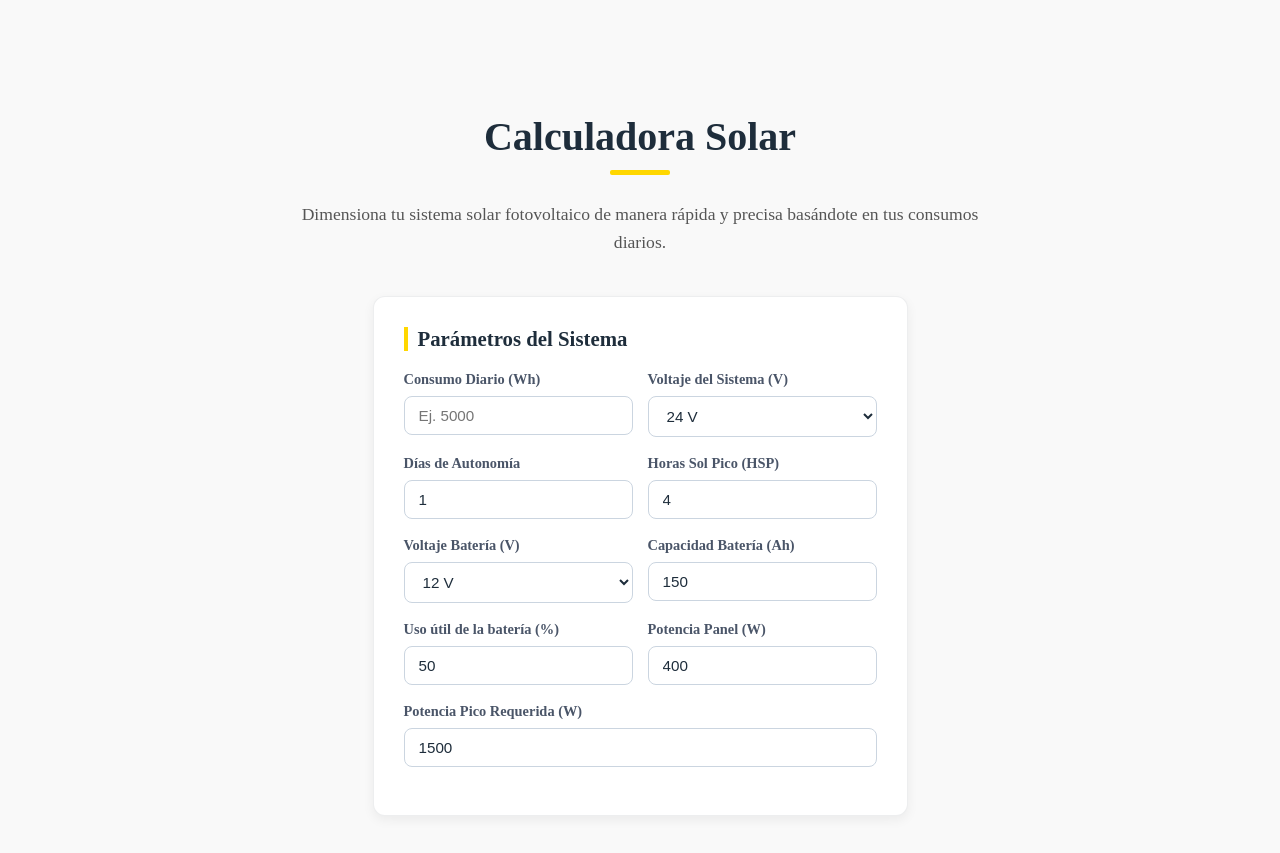
Test case: CalculadoraSolar › usa un mensaje por defecto si el API no envía uno
Type "100" into the number field with placeholder "Ej. 5000" at (518, 416), box [404,396,632,436]
(page scrolled)
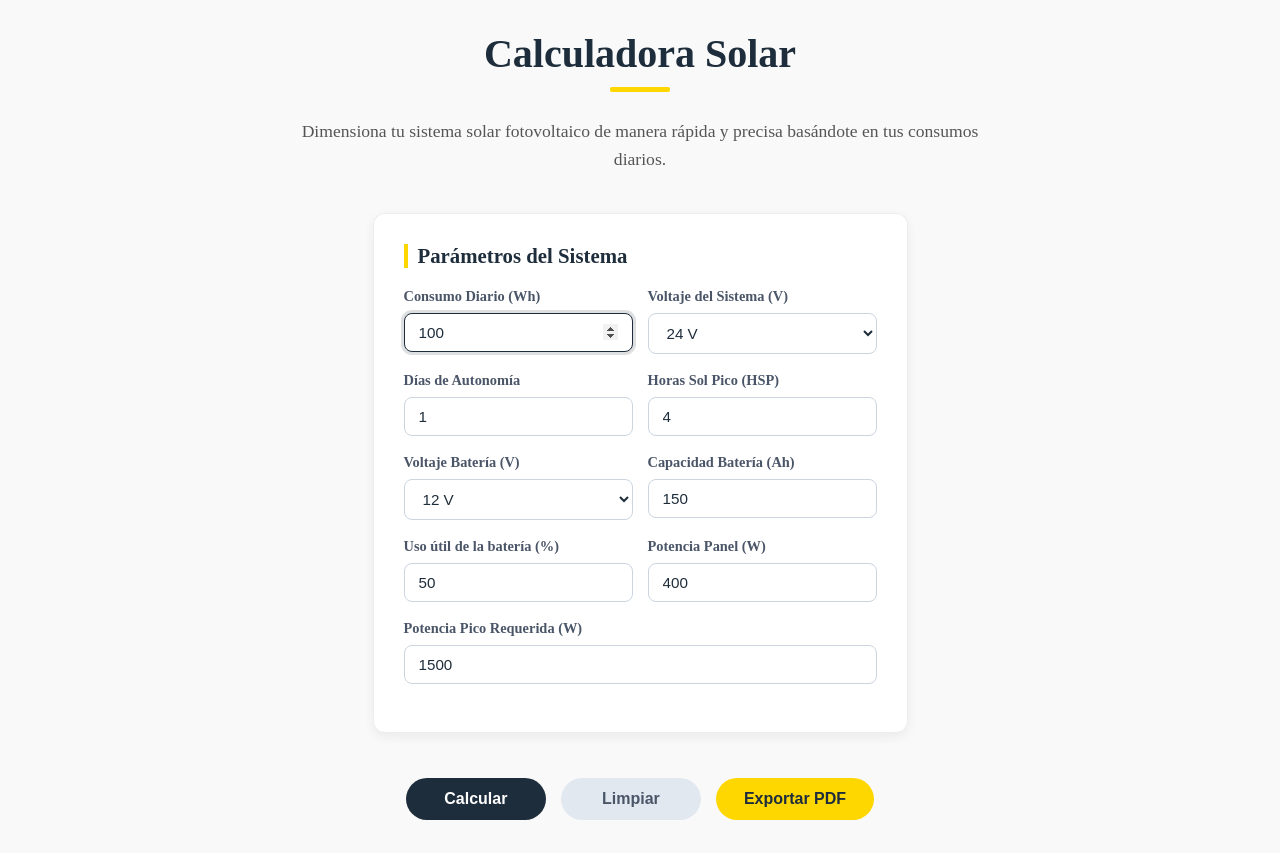
Click the button "Calcular" at (476, 800), box [406,778,546,820]
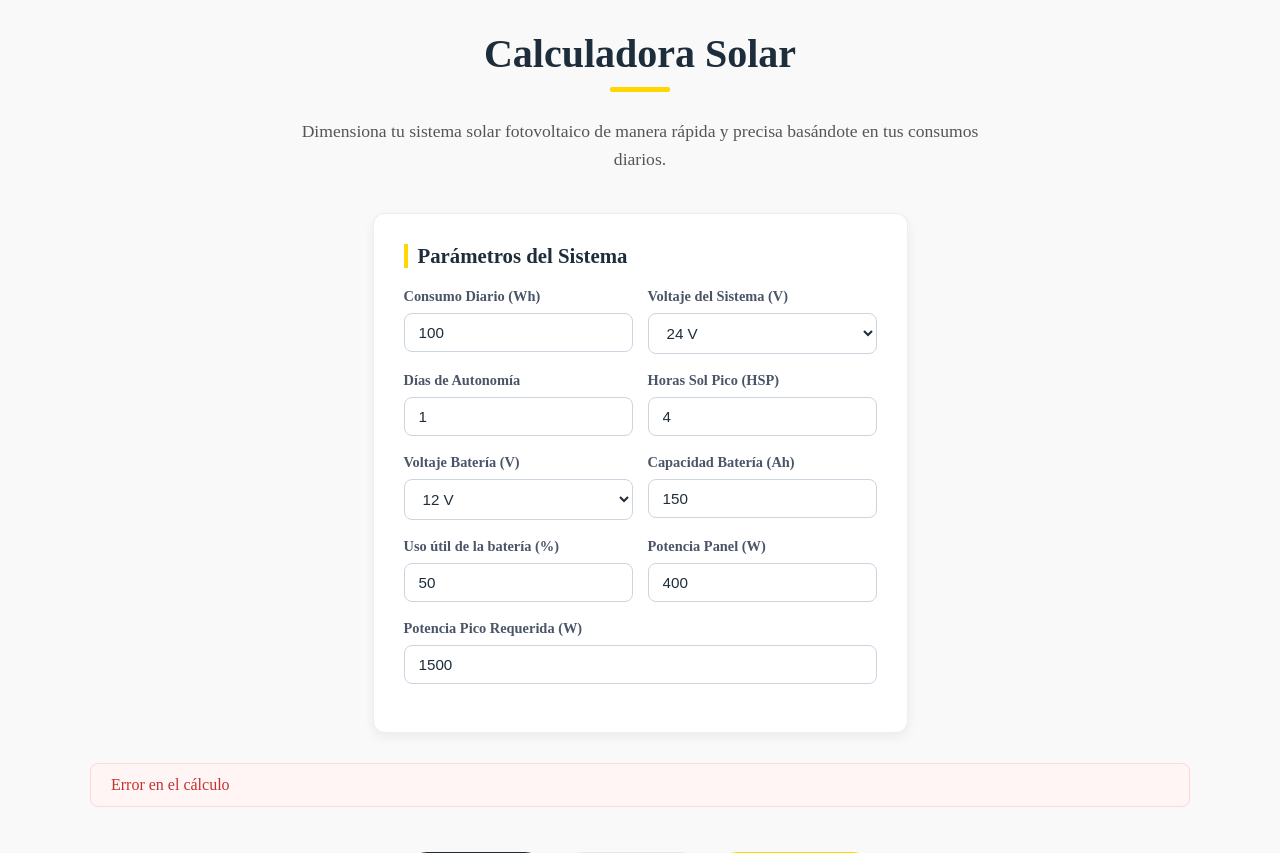
Expected: the text "Error en el cálculo" is shown, [90,764,1190,808]
